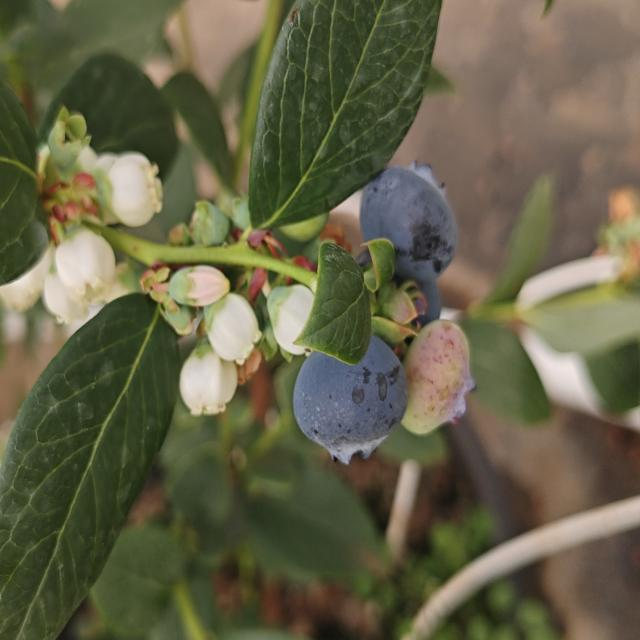ripe: (288, 328, 416, 471), (356, 148, 460, 282), (390, 253, 445, 344)
